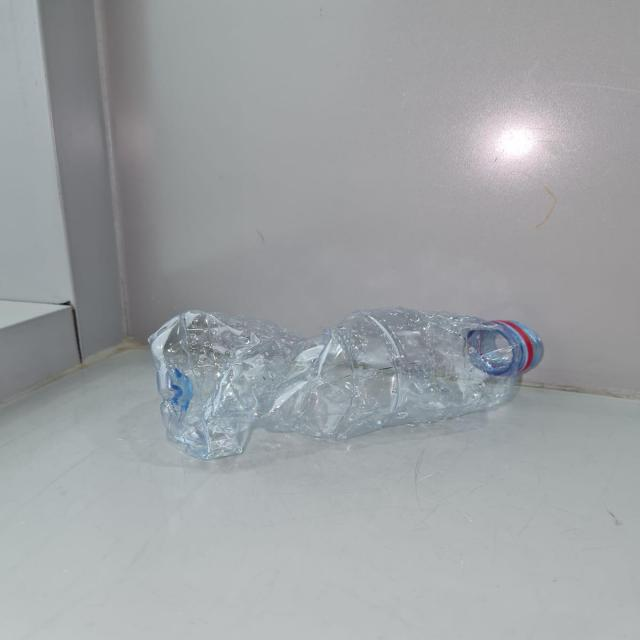bottle: (137, 293, 555, 477)
